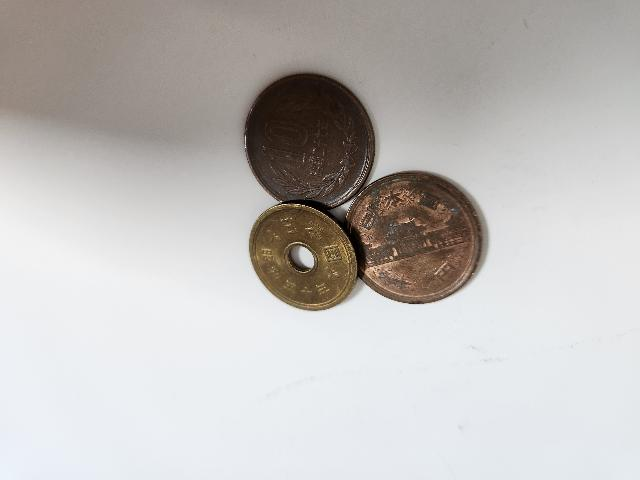coin: (348, 168, 484, 304), (247, 71, 377, 213), (246, 204, 362, 310)
